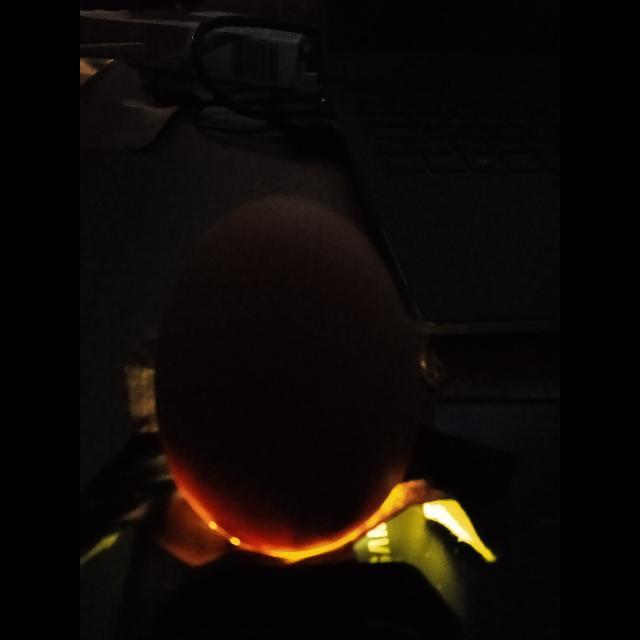Fertile: (147, 199, 425, 557)
